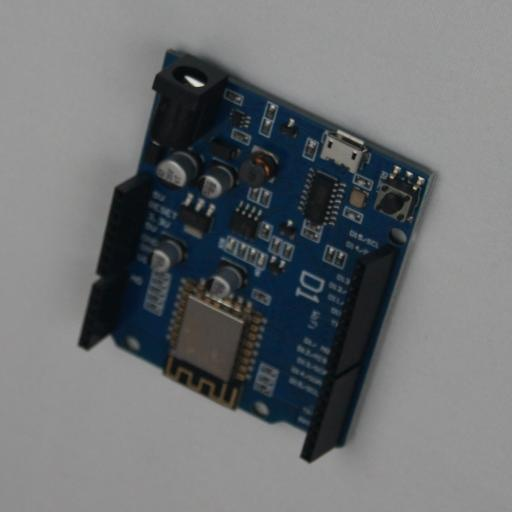Arduino Uno WiFi Shield: (78, 49, 435, 463)
